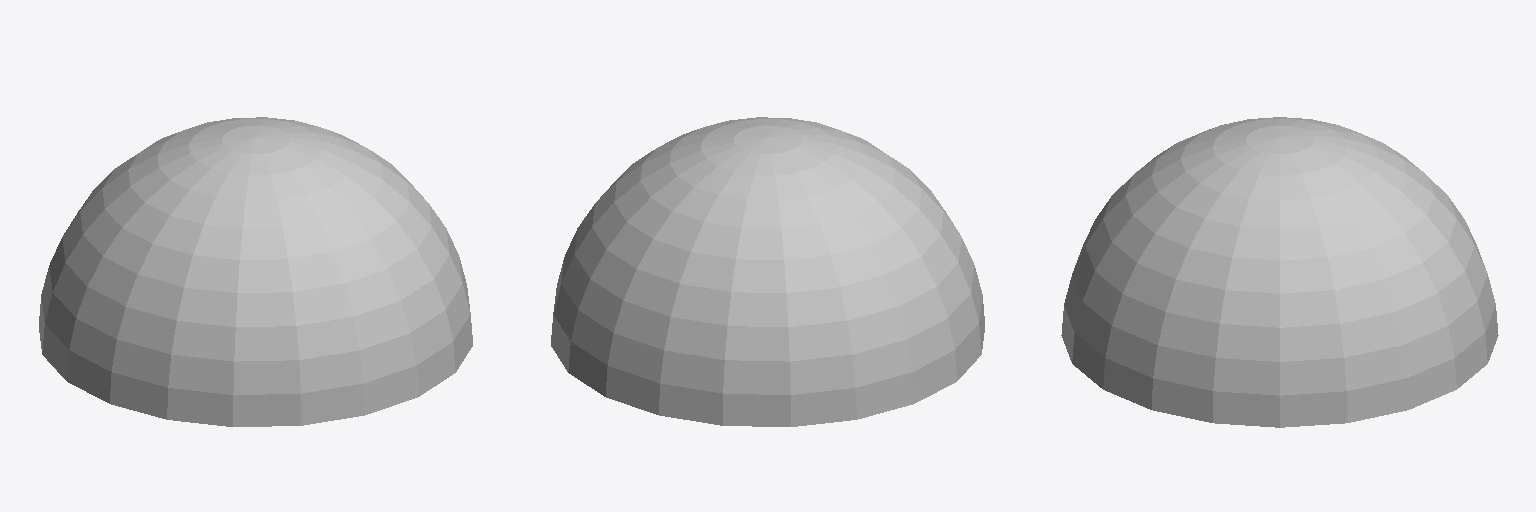
Rendered from Bun2.obj.
3 renders of one model, left to right at view 1: azimuth 30°, elevation 25°; view 2: azimuth 150°, elevation 25°; view 3: azimuth 270°, elevation 25°, orthographic.
Visible parts, largest first — view 1: Bun2:pasted__pSphere1group; view 2: Bun2:pasted__pSphere1group; view 3: Bun2:pasted__pSphere1group.
Boxes of the visible parts, x1,y1,x2,y2 form: Bun2:pasted__pSphere1group: [39, 117, 472, 426]; Bun2:pasted__pSphere1group: [551, 117, 984, 426]; Bun2:pasted__pSphere1group: [1061, 117, 1498, 427].
Size of the model in its own units: 2 by 1.2 by 2.